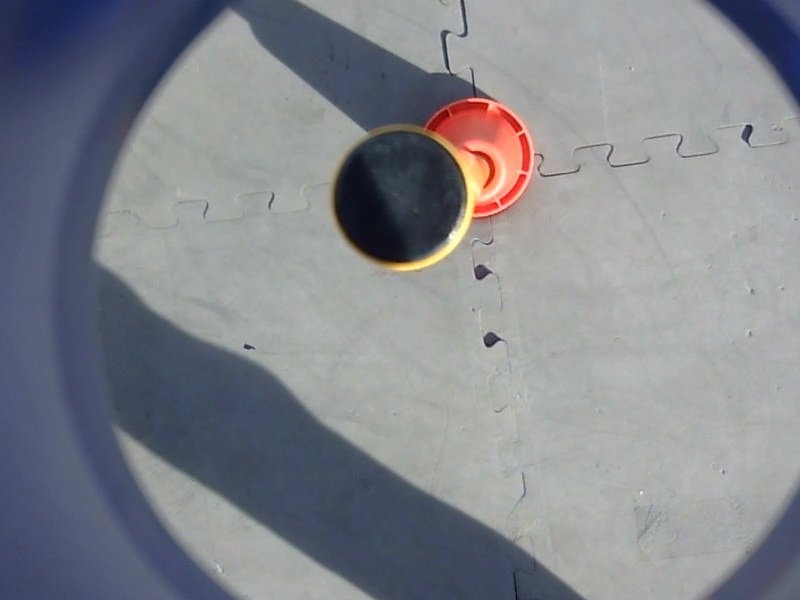tip: (319, 117, 482, 281)
